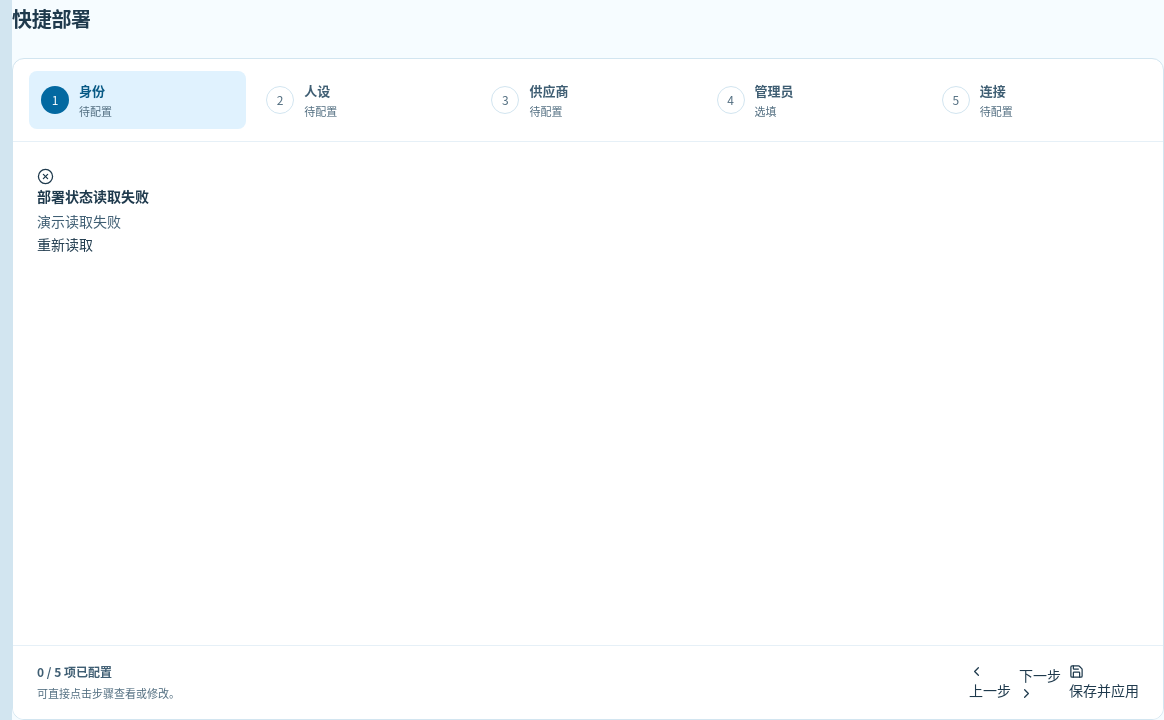
Scenario: Deploy 分步配置 › 读取失败保留重试，出现草稿后移除重试并暂停自动更新
The width and height of the screenshot is (1164, 720).
Expected: the message shows "演示读取失败", [37,211,121,231]
Click the button "重新读取".
click(65, 244)  # box [37,233,93,255]
Wait 30000 ms
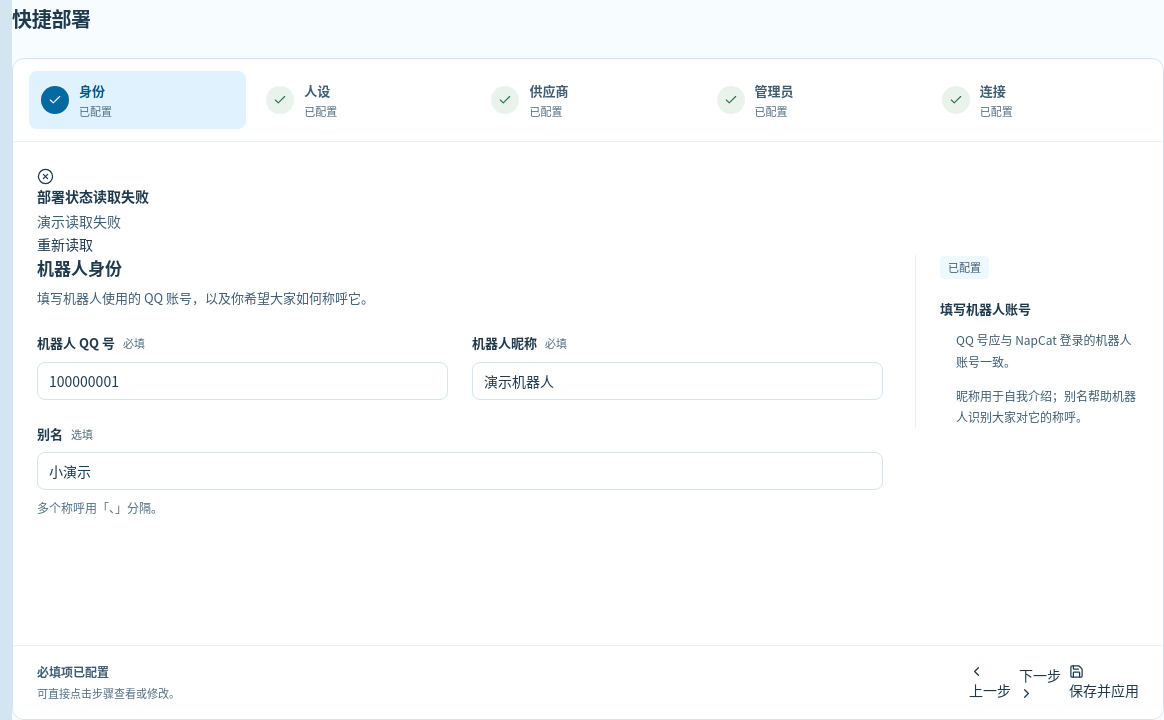
Result: the field showing "演示机器人" is shown
Replace the text in the field showing "演示机器人" with "错误后的草稿" at [678, 381], box [472,362,883,400]
Wait 60000 ms
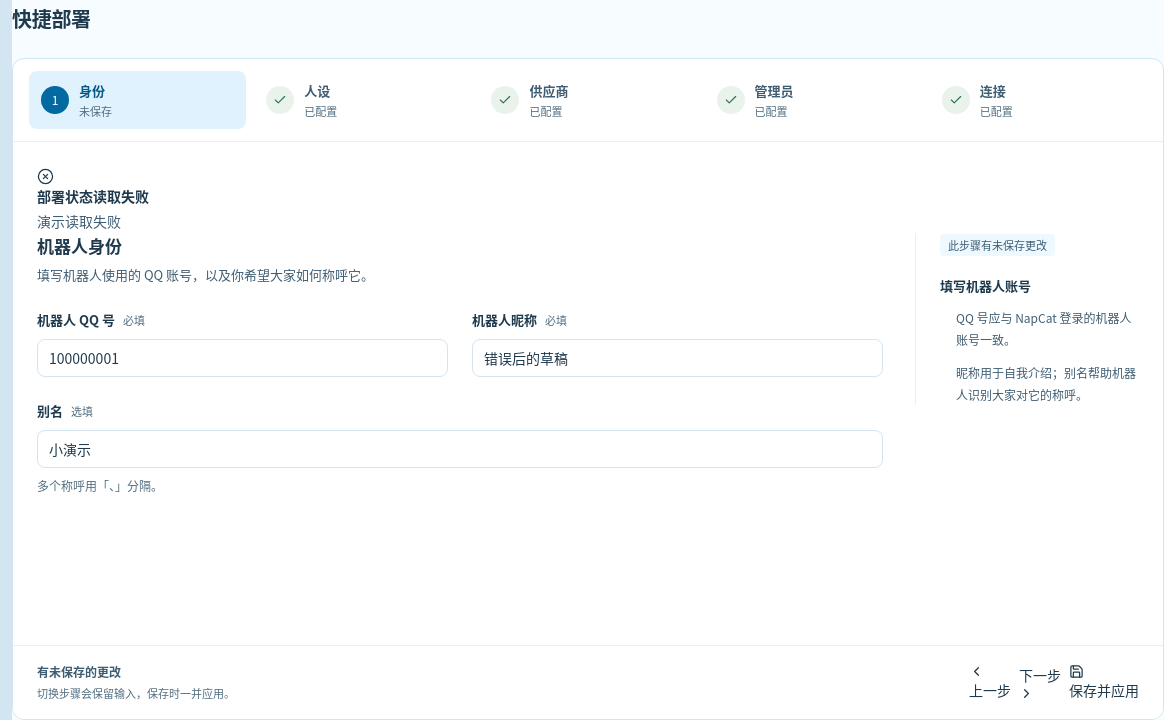
Result: the button "重新读取" is gone
